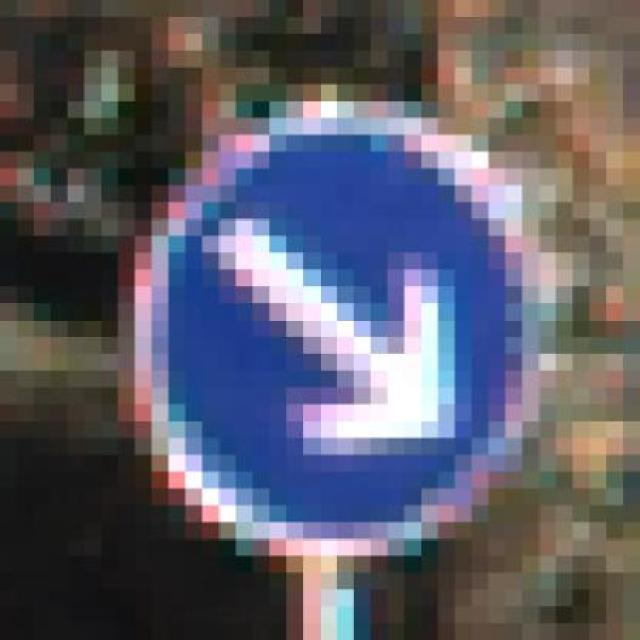Keep-Right: (84, 67, 573, 590)
